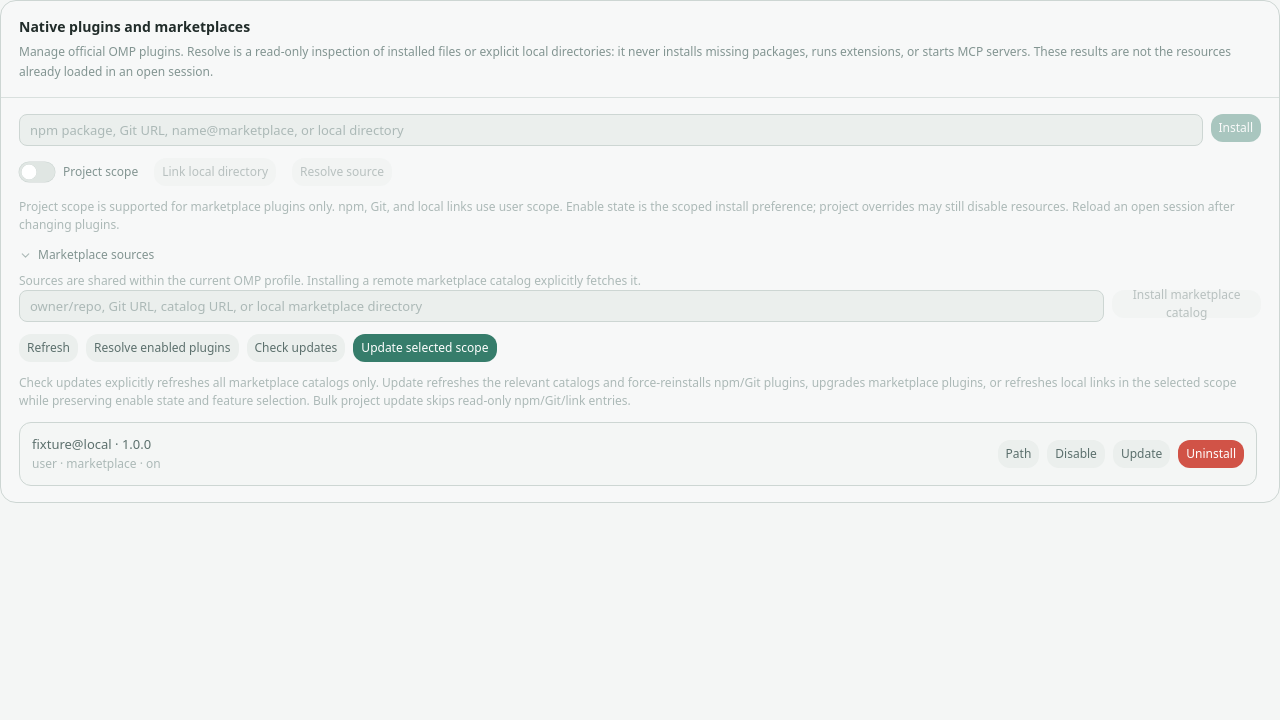
it: native package management › reports a failed enable change without pretending the plugin was disabled
Click the button "Disable": (1076, 454) [1047, 440, 1105, 468]
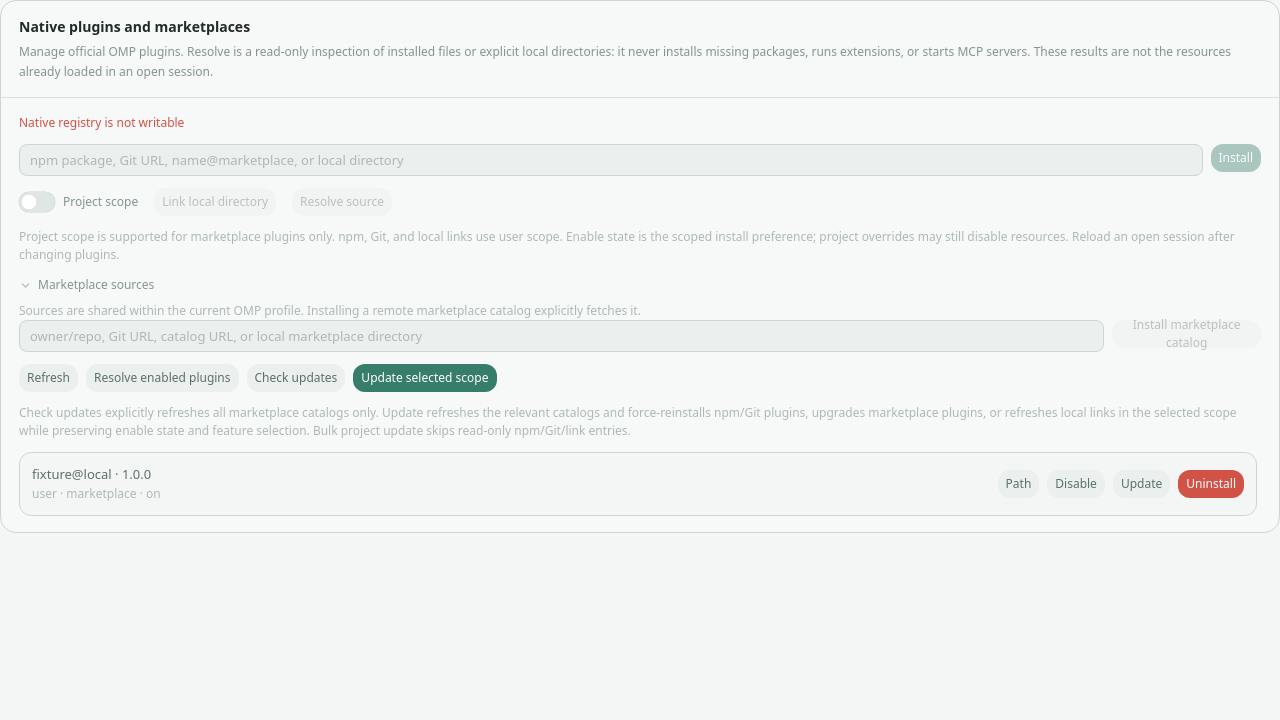
Expected: the button "Disable" is enabled, [1047, 470, 1105, 498]
Expected: the message reads "Native registry is not writable", [19, 114, 184, 131]
